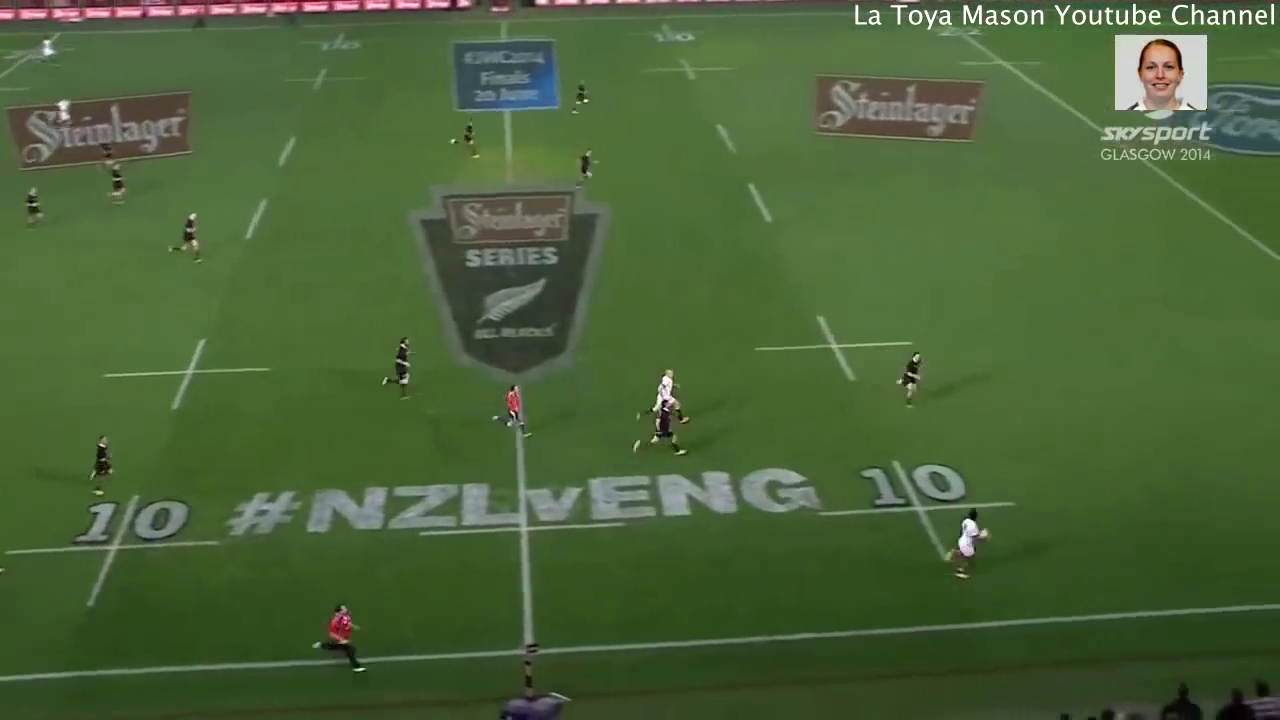10_metre: (1, 482, 224, 613), (812, 454, 1025, 567), (88, 329, 276, 412), (749, 312, 917, 385), (640, 53, 740, 85), (278, 64, 368, 96), (301, 28, 385, 58), (629, 22, 709, 44)
player: (933, 506, 992, 582), (629, 360, 693, 424), (629, 399, 694, 460), (377, 332, 421, 404), (491, 379, 540, 439), (161, 202, 205, 268), (890, 346, 925, 409), (90, 428, 118, 497), (449, 116, 485, 163), (571, 146, 603, 192), (105, 161, 133, 207), (21, 183, 45, 231), (569, 80, 592, 116), (52, 96, 77, 129), (36, 32, 58, 68)
